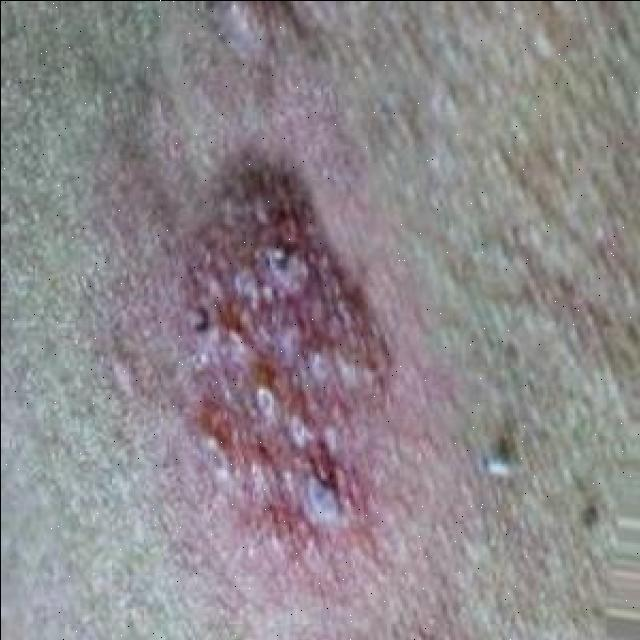Shingles: (178, 172, 390, 547)
